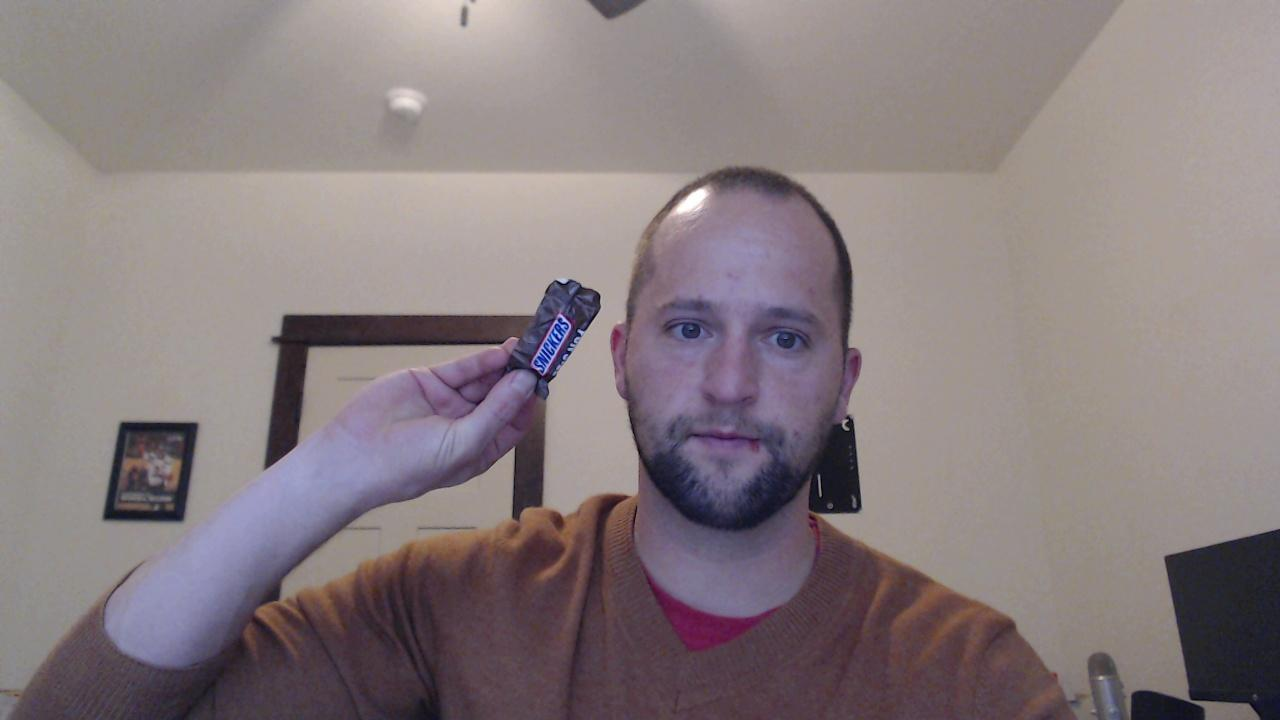Snickers: (503, 278, 602, 399)
